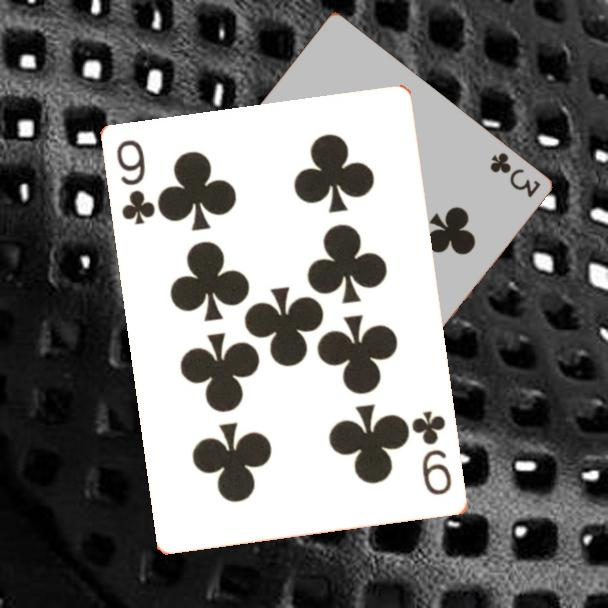c03: (486, 149, 543, 201)
c09: (409, 407, 455, 499), (113, 136, 159, 228)
